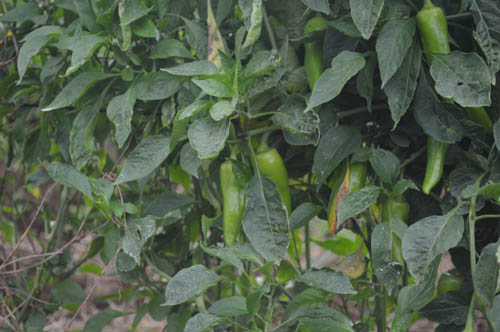ChiliPepper: (219, 160, 249, 244), (262, 151, 299, 213), (299, 19, 330, 93), (378, 199, 410, 258), (416, 8, 451, 58), (426, 133, 450, 202), (340, 163, 370, 205)
